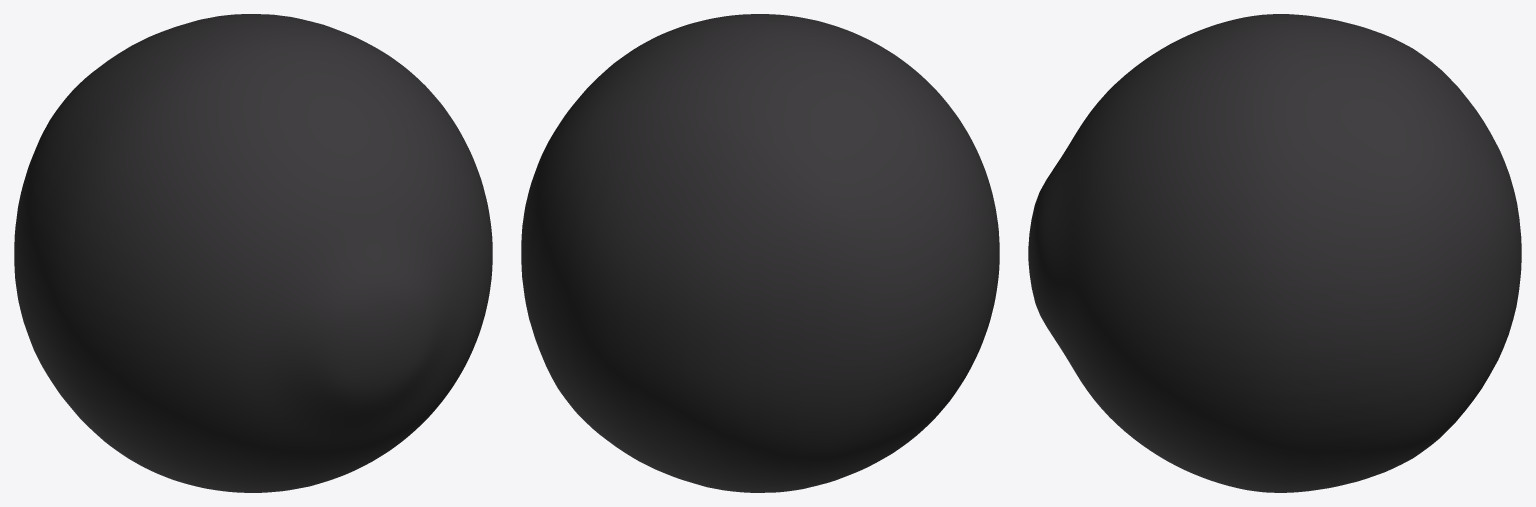
File: model-v7-modified.glb
3 renders of one model, left to right at view 1: azimuth 30°, elevation 25°; view 2: azimuth 150°, elevation 25°; view 3: azimuth 270°, elevation 25°, orthographic.
Visible parts, largest first — view 1: Cornea_Mesh_2; view 2: Cornea_Mesh_2; view 3: Cornea_Mesh_2.
Boxes of the visible parts, x1,y1,x2,y2 form: Cornea_Mesh_2: [14, 14, 492, 492]; Cornea_Mesh_2: [521, 14, 999, 492]; Cornea_Mesh_2: [1028, 14, 1521, 492].
Size of the model in its own units: 0.3026 by 0.3029 by 0.3116.
Materials: 4 (4 with a texture image).
